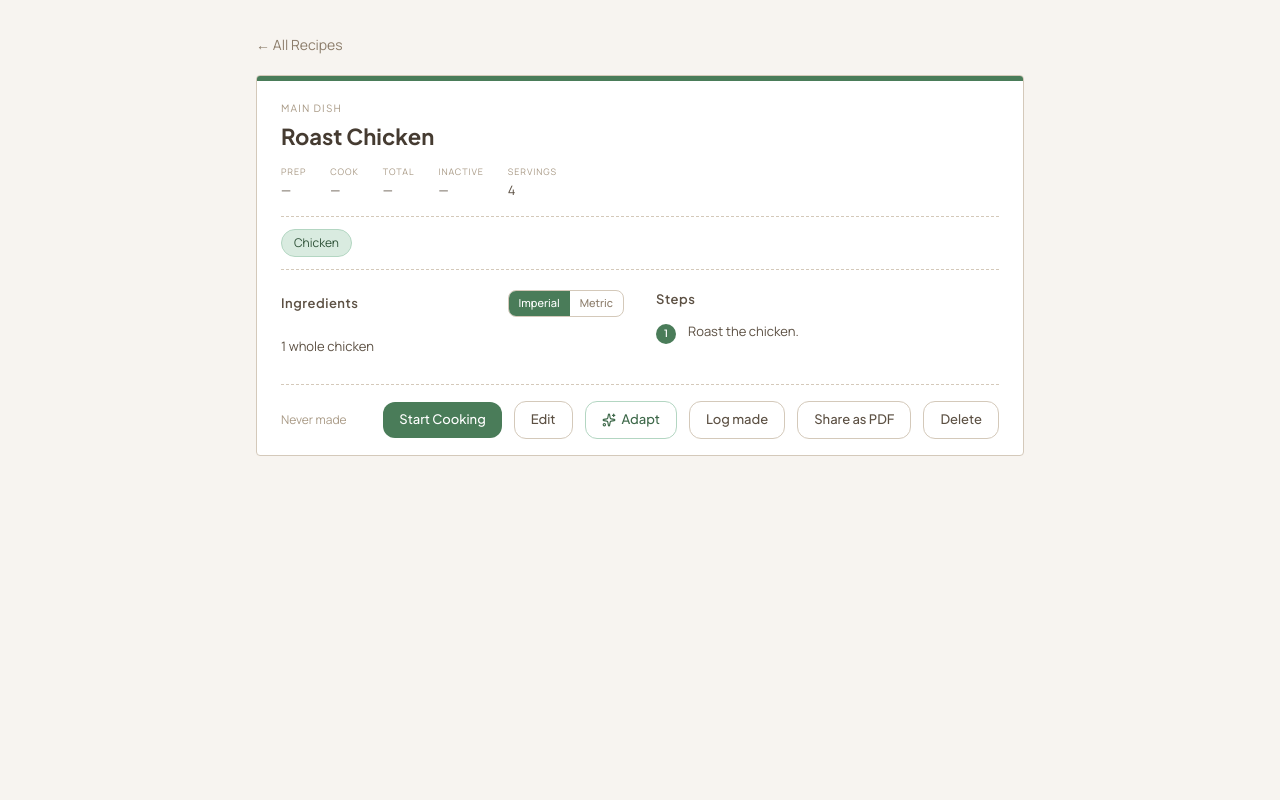
Test: spec-18 T04 - Clicking "Adapt" opens AIEditSheet › opens the AI edit sheet when "Adapt" is clicked
Click the button "Adapt" at (631, 420), box x1=584 y1=401 x2=677 y2=438
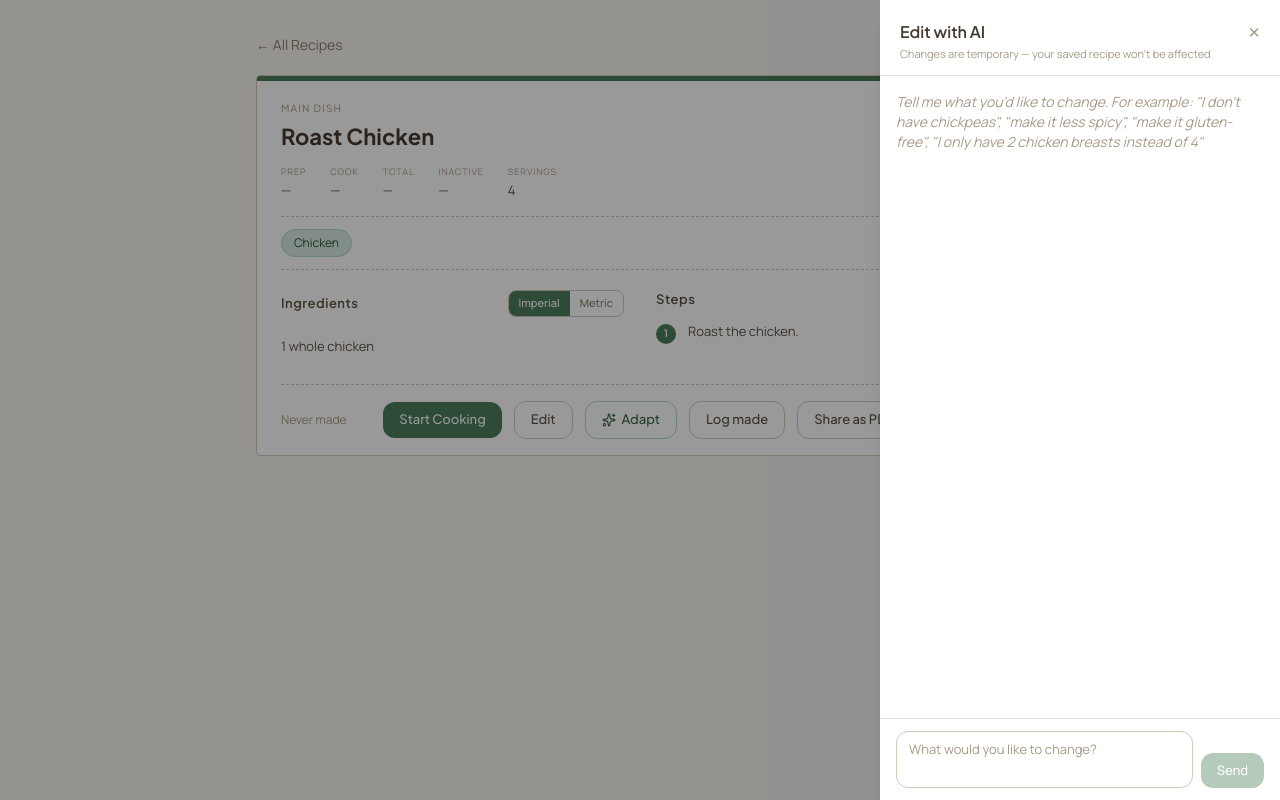
Now the dialog "Edit with AI" is shown, box x1=880 y1=0 x2=1279 y2=799
